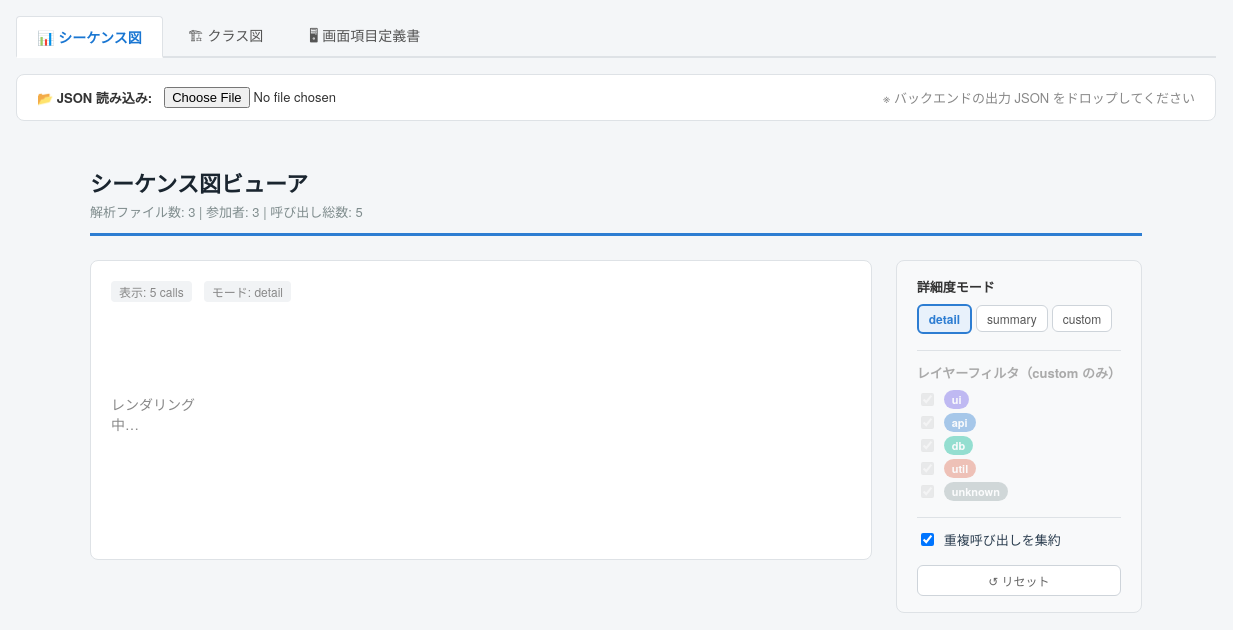
App – ビューの切り替え › クラス図タブに切り替えられる
Click the button "🏗 クラス図" at point(226, 37), box [167, 16, 284, 58]
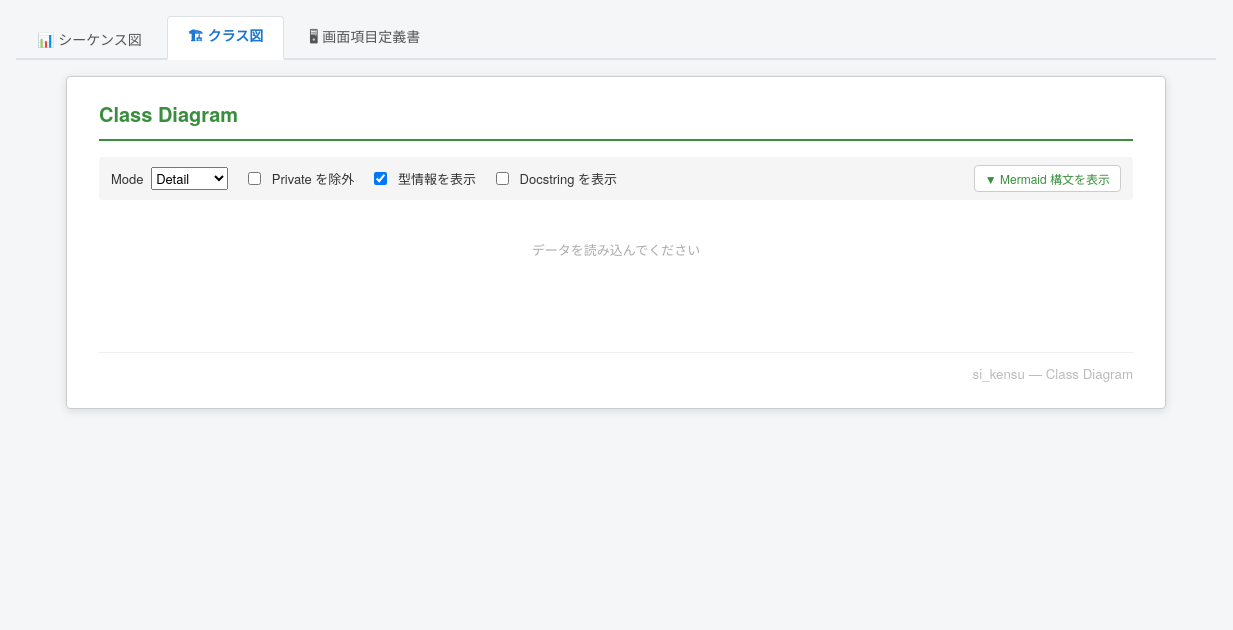
Result: the heading "Class Diagram" is shown at [99, 101, 238, 127]
